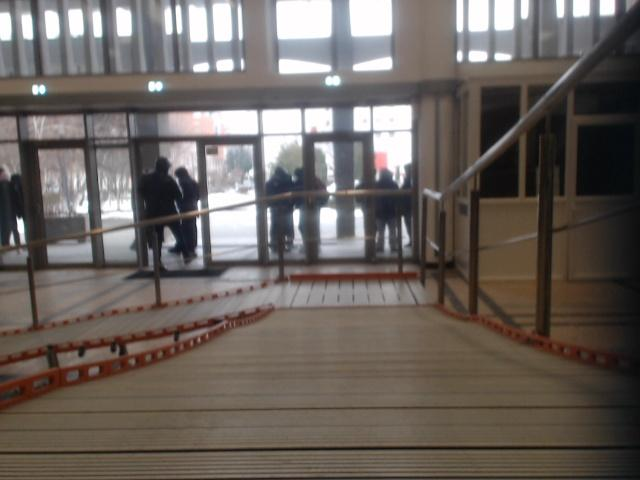ramps-railing: (5, 0, 639, 247), (421, 4, 639, 335), (26, 211, 209, 305), (468, 190, 478, 314), (434, 208, 445, 304), (27, 254, 41, 328)
